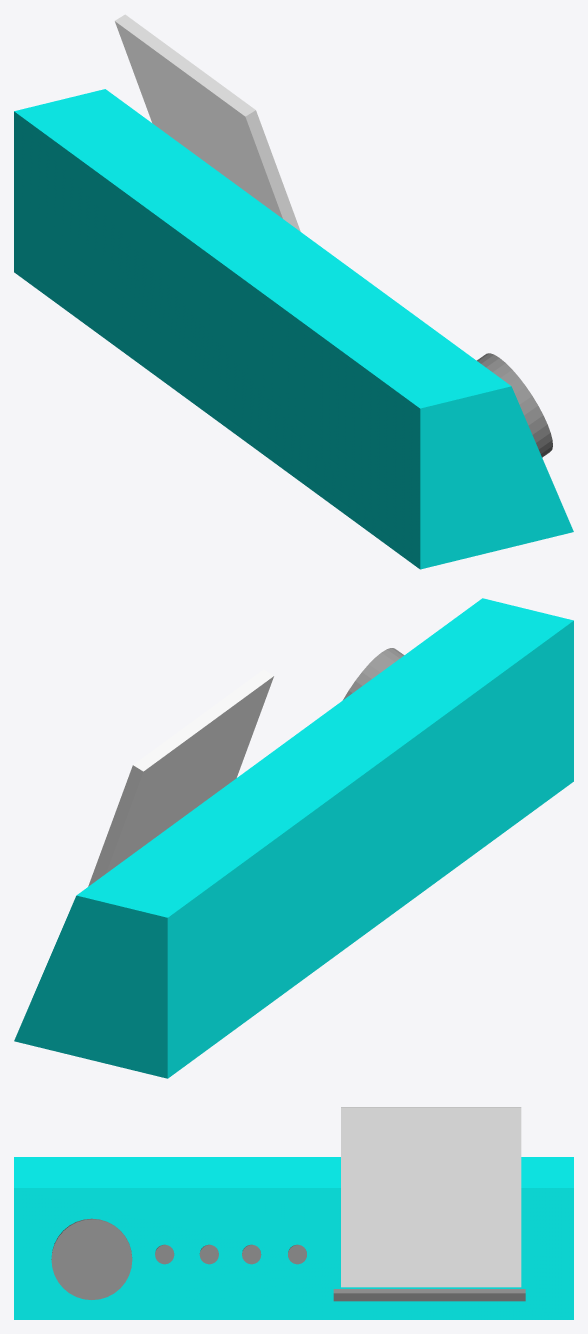
Rendered from blandaband.glb.
3 views of the same model, one above another, from view 1: azimuth 30°, elevation 25°; view 2: azimuth 150°, elevation 25°; view 3: azimuth 270°, elevation 25° (orthographic). The views are drawn at different scales.
Visible parts, largest first — view 1: Cube, Cube.001; view 2: Cube, Cube.001; view 3: Cube, Cube.001, Cylinder.001, Cylinder.002, Cylinder.003, Cylinder.004.
Part boxes in pixels (x1=…): Cube: x1=14, y1=89, x2=573, y2=569; Cube.001: x1=115, y1=14, x2=300, y2=231; Cube: x1=14, y1=598, x2=573, y2=1078; Cube.001: x1=88, y1=669, x2=273, y2=886; Cube: x1=14, y1=1157, x2=573, y2=1319; Cube.001: x1=341, y1=1107, x2=521, y2=1287; Cylinder.001: x1=155, y1=1244, x2=174, y2=1264; Cylinder.002: x1=199, y1=1244, x2=218, y2=1264; Cylinder.003: x1=242, y1=1244, x2=261, y2=1264; Cylinder.004: x1=288, y1=1244, x2=306, y2=1264.
Bounding box in the file's own units: 2.25 × 3.33 × 9.15.
